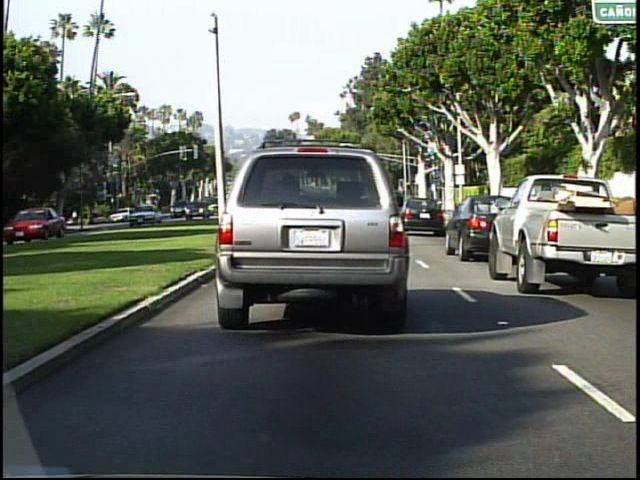person: (72, 208, 79, 227)
